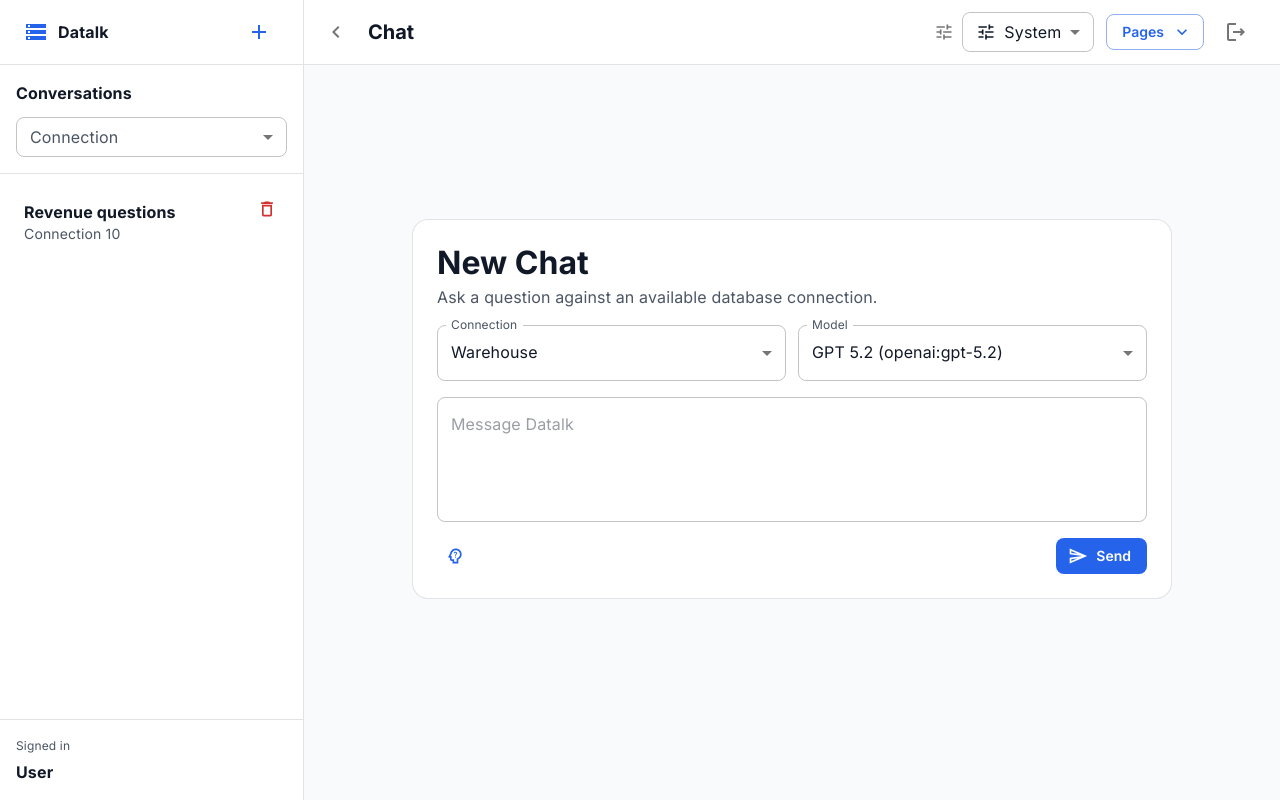
Test: ChatPage › does not submit a duplicate message when a stream response has no readable body
Step 1. Click the text "Revenue questions" → (100, 212), box 24,202 -> 176,222
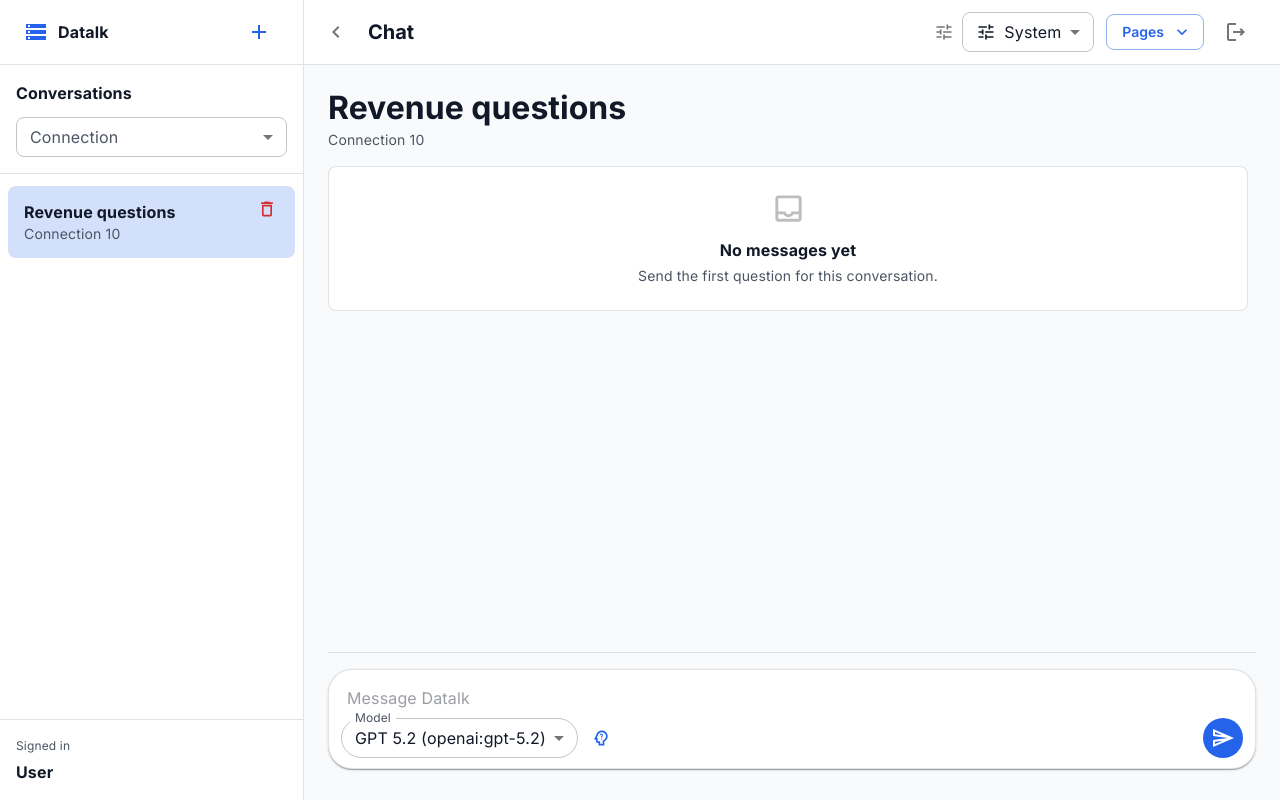
Step 2. Type "How many users?" into the text box labelled "Message" → (792, 698), box 347,686 -> 1237,710
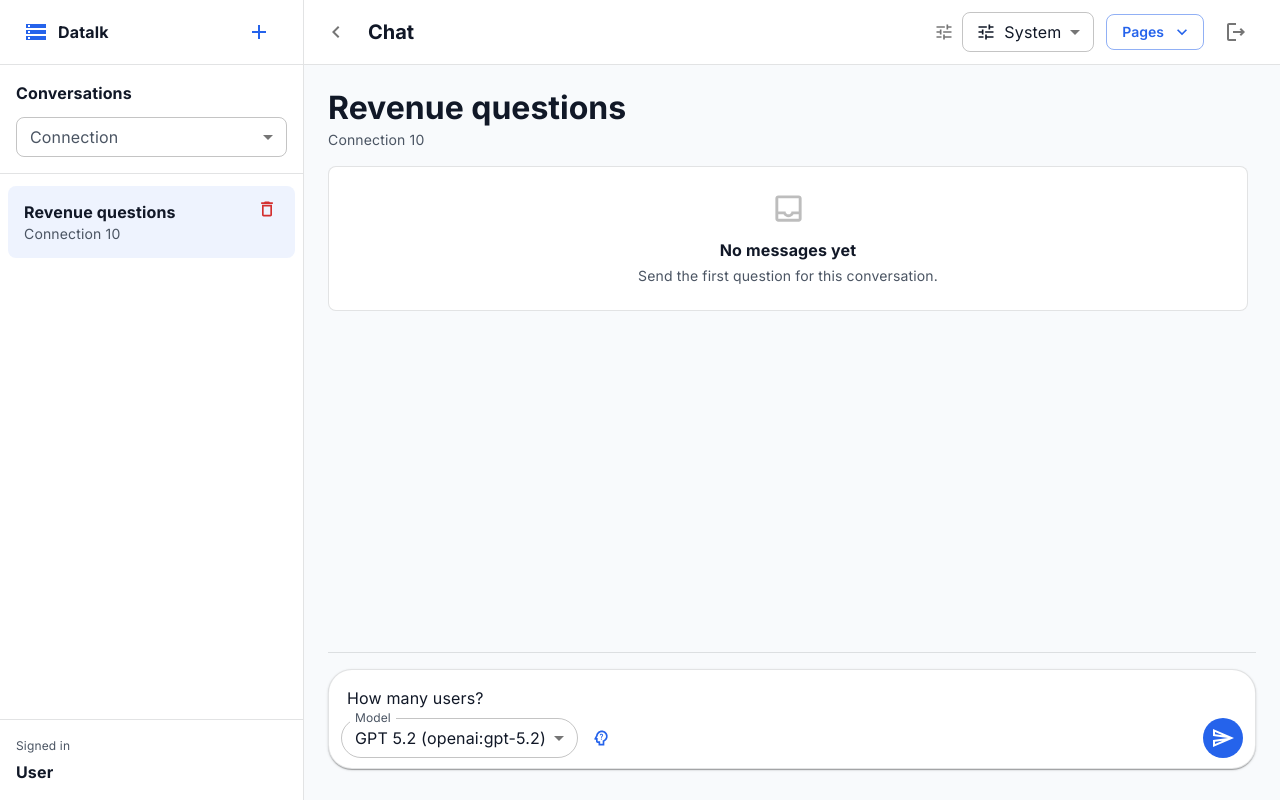
Step 3. Click the button named "Send" → (1223, 738), box 1203,718 -> 1243,758
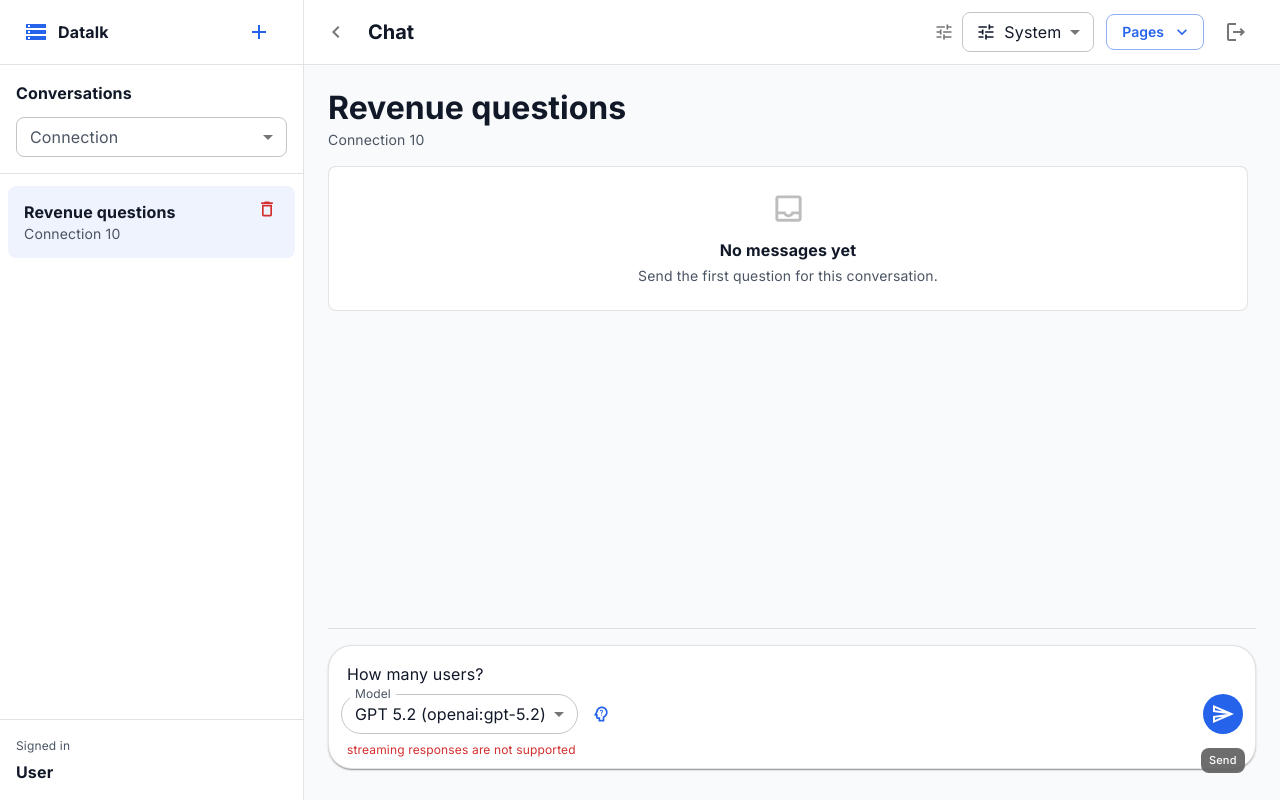
Check: the text "streaming responses are not supported" is shown, box 337,738 -> 586,757
